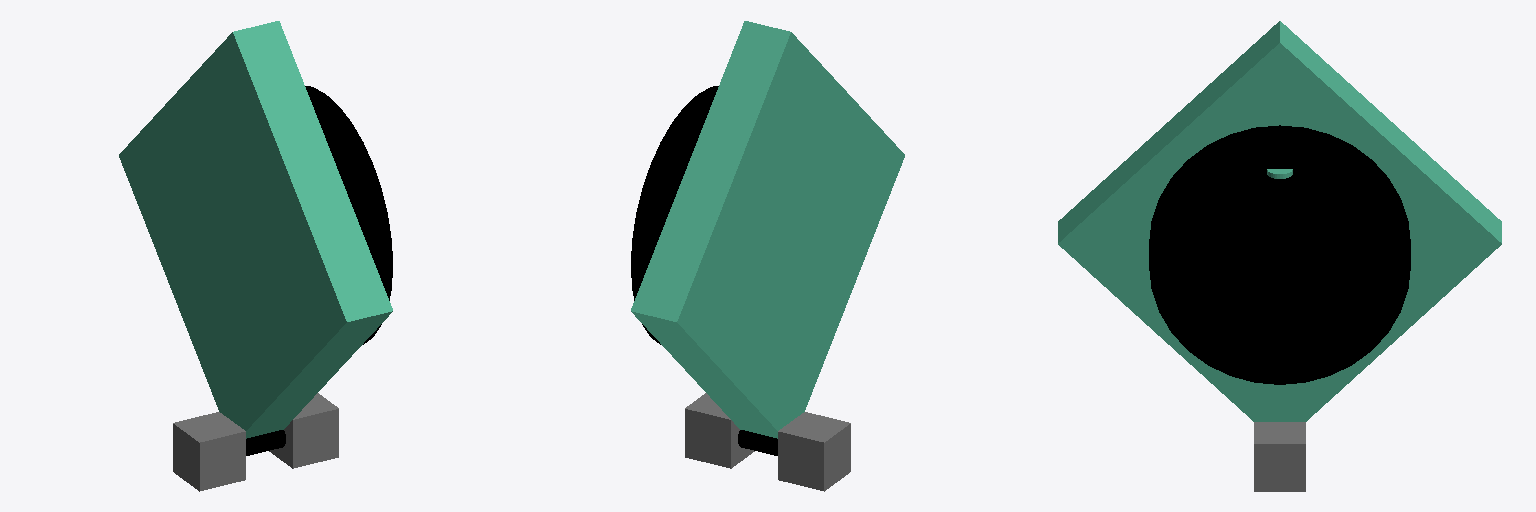
The robot description file, URDF, robot "camel_simple_pendulum":
<?xml version="1.0" ?>
<robot name="camel_simple_pendulum">

  <material name="black">
    <color rgba="0.0 0.0 0.0 1.0"/>
  </material>

  <material name="gray">
    <color rgba="0.5 0.5 0.5 1.0"/>
  </material>

  <material name="Aquamarine">
    <color rgba="0.364 0.733 0.608 1.0"/>
  </material>

  <material name="Aqua">
    <color rgba="0.0 0.733 0.733 1.0"/>
  </material>

  <link name="world"/>
  <joint name="fixed_world" type="fixed">
    <parent link="world"/>
    <child link="base"/>
  </joint>

  <link name="base">
    <visual>
      <origin rpy="0 0 0" xyz="0.2 0 0.1"/>
      <geometry>
        <box size="0.2 0.2 0.2"/>
      </geometry>
      <material name="gray"/>
    </visual>
    <visual>
      <origin rpy="0 0 0" xyz="-0.2 0 0.1"/>
      <geometry>
        <box size="0.2 0.2 0.2"/>
      </geometry>
      <material name="gray"/>
    </visual>
    <visual>
      <origin rpy="0 1.570796 0 " xyz="0 0 0.1"/>
      <geometry>
        <cylinder length="0.2" radius="0.05"/>
      </geometry>
      <material name="black"/>
    </visual>
  </link>
  
  <joint name="base-roll" type="revolute">
    <origin rpy="0 0 0" xyz="0 0 0.1"/>
    <parent link="base"/>
    <child link="board"/>
    <axis xyz="1 0 0"/>
  </joint>

  <link name="board">
    <visual>
      <origin rpy="0.785398 0 0" xyz="0 0 0.8485"/>
      <geometry>
        <box size="0.2 1.2 1.2"/>
      </geometry>
      <material name="Aquamarine"/>
    </visual>
    
    <inertial>
      <mass value="1"/>
      <inertia ixx="1.0" ixy="0.0" ixz="0.0" iyy="0.00102" iyz="0.0" izz="1.0"/>
    </inertial>

    <collision>
      <origin rpy="0.785398 0 0" xyz="0 0 0.8485"/>
      <geometry>
        <box size="0.2 1.2 1.2"/>
      </geometry>
    </collision>
  </link>

  <joint name="motor-roll" type="revolute">
    <origin rpy="0 0 0" xyz="0.2 0 0.8485"/>
    <parent link="board"/>
    <child link="motor"/>
    <axis xyz="1 0 0"/>
  </joint>

  <link name="motor">
    <visual>
      <origin rpy="0 1.570796 0" xyz="0 0 0"/>
      <geometry>
        <cylinder length="0.2" radius="0.5"/>
      </geometry>
      <material name="black"/>
    </visual>
    
    <visual>
      <origin rpy="0 0 0" xyz="0.1 0 0.4"/>
      <geometry>
        <cylinder length="0.02" radius="0.05"/>
      </geometry>
      <material name="Aquamarine"/>
    </visual>

     <inertial>
      <mass value="0.335"/>
      <inertia ixx="1.0" ixy="0.0" ixz="0.0" iyy="0.00005" iyz="0.0" izz="1.0"/>
    </inertial>
  </link>

  
  
</robot>

--- What the picture shows (computed from the rendered views, not written in the file) ---
Views: 3 orthographic renders of the robot side by side, from view 1: azimuth 30°, elevation 25°; view 2: azimuth 150°, elevation 25°; view 3: azimuth 270°, elevation 25°.
Model camel_simple_pendulum with 4 links and 3 joints (2 revolute, 1 fixed), rooted at world, posed every joint at zero.
Visible links, largest first — view 1: board, base, motor; view 2: board, base, motor; view 3: motor, board, base.
Boxes of the visible links, x1=… form: board: x1=119, y1=21, x2=392, y2=438; base: x1=173, y1=393, x2=338, y2=491; motor: x1=305, y1=86, x2=392, y2=344; board: x1=631, y1=21, x2=904, y2=438; base: x1=685, y1=393, x2=850, y2=491; motor: x1=631, y1=86, x2=718, y2=344; motor: x1=1149, y1=125, x2=1410, y2=384; board: x1=1058, y1=21, x2=1501, y2=421; base: x1=1254, y1=422, x2=1305, y2=491.
Size in the robot's own frame: 0.65 by 1.7 by 1.8 metres.
Geometry: primitives only (box / cylinder / sphere), no mesh files.